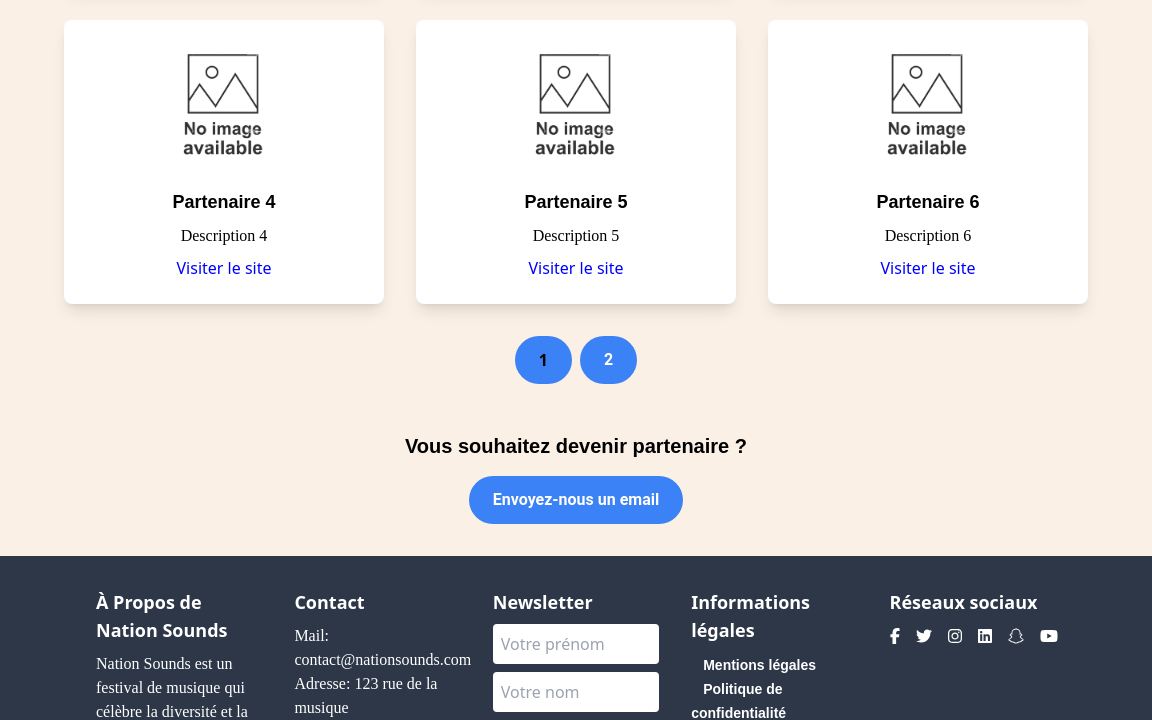
it: Composant PartnersPage › pagine les partenaires correctement
(page scrolled)
Expected: the heading "Partenaire 6" is shown, [876,192,980,212]
Expected: the text "Partenaire 7" is not shown
// Simulez un clic pour changer de page
Click the button "2" at (609, 360), box [580,336,637,384]
(page scrolled)
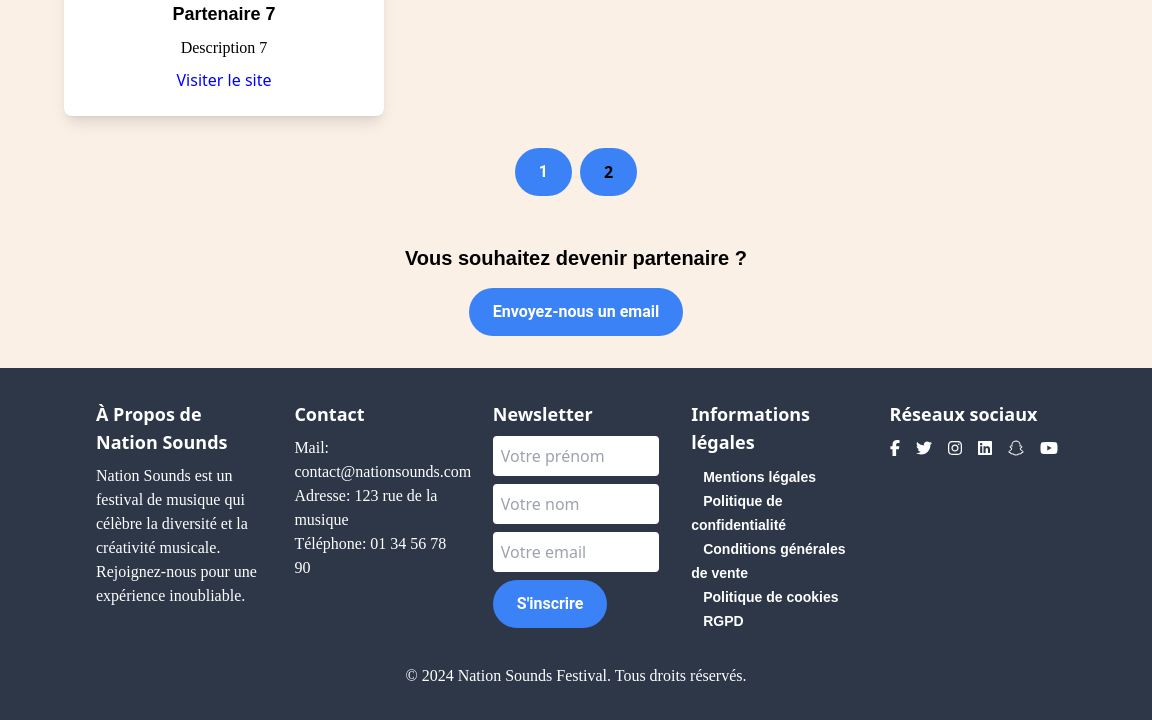
Expected: the heading "Partenaire 7" is shown, [172,4,276,24]
